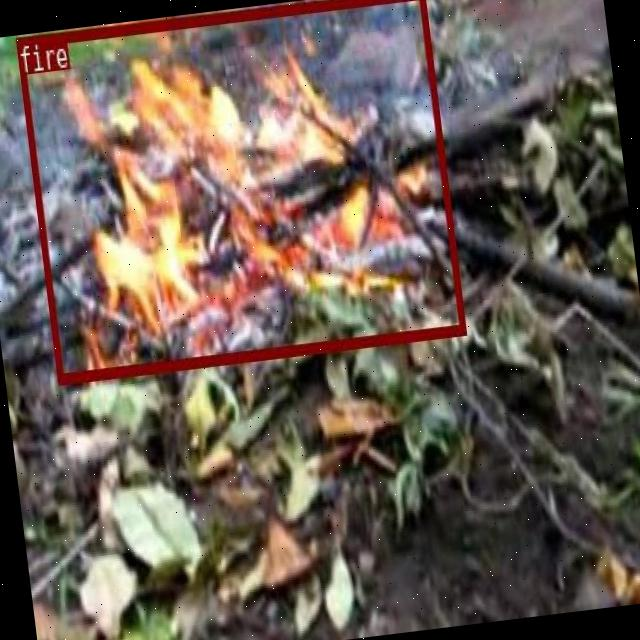fire: (15, 0, 464, 382)
